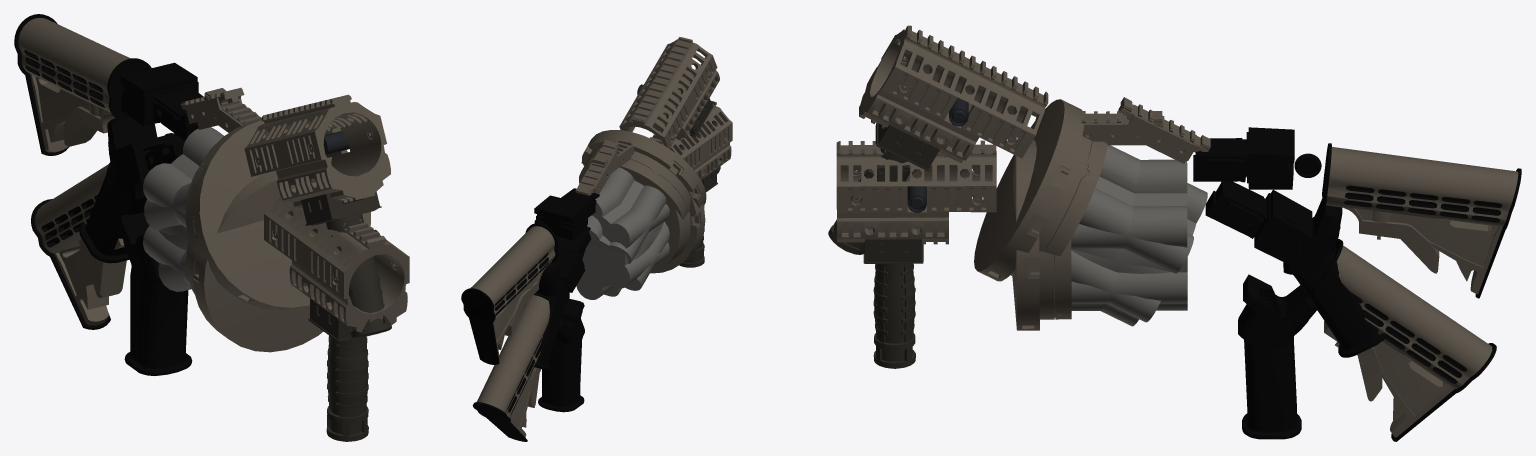
The model's file is mgl.fbx.
3 renders of one model, left to right at view 1: azimuth 30°, elevation 25°; view 2: azimuth 150°, elevation 25°; view 3: azimuth 270°, elevation 25°, orthographic. The views are drawn at different scales.
Parts seen in each view (by area): view 1: Cilindro_047_PlasticDesert_0.003, Cilindro_047, Cilindro_047_PlasticDesert_0.001; view 2: Cilindro_047_PlasticDesert_0.003, Cilindro_047, Cilindro_047_PlasticDesert_0.001; view 3: Cilindro_047_PlasticDesert_0.003, Cilindro_047, Cilindro_047_PlasticDesert_0.001.
Boxes of the visible parts, x1,y1,x2,y2 form: Cilindro_047_PlasticDesert_0.003: (31,87,391,375); Cilindro_047: (14,14,409,441); Cilindro_047_PlasticDesert_0.001: (143,127,323,352); Cilindro_047_PlasticDesert_0.003: (472,37,720,441); Cilindro_047: (461,101,732,370); Cilindro_047_PlasticDesert_0.001: (576,187,705,299); Cilindro_047_PlasticDesert_0.003: (828,25,1496,441); Cilindro_047: (836,111,1521,368); Cilindro_047_PlasticDesert_0.001: (1012,139,1187,330).
Bounding box in the file's own units: 1.96 × 4.76 × 7.61.
